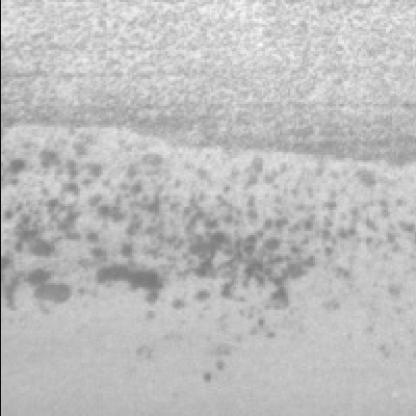pitted_surface: (0, 154, 389, 341), (0, 3, 410, 171)
